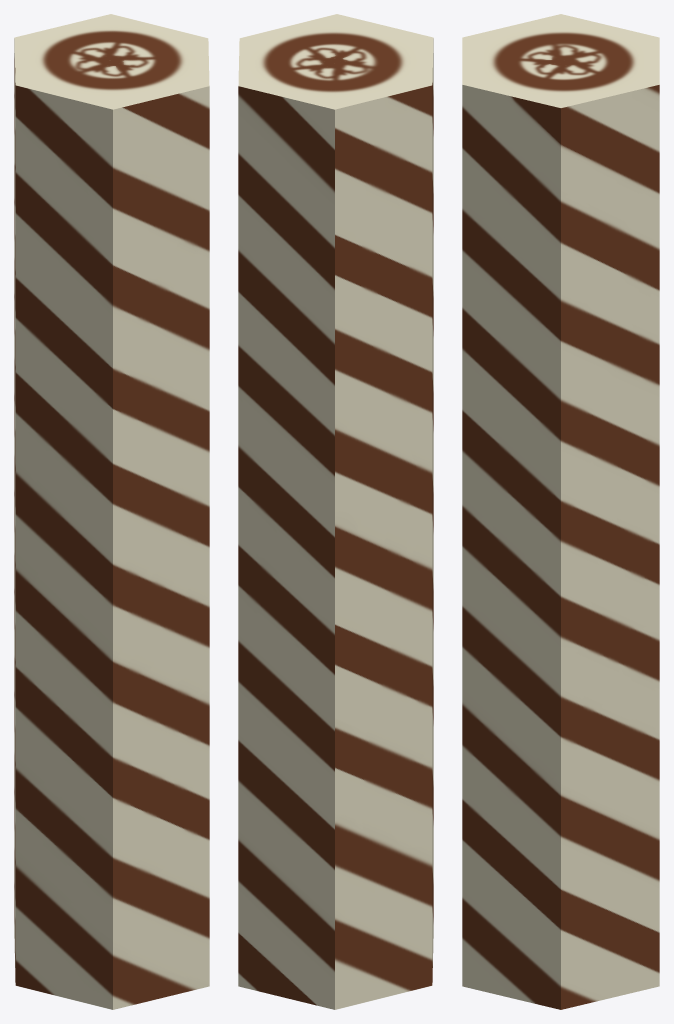
Rendered from Piazza.fbx.
3 renders of one model, left to right at view 1: azimuth 30°, elevation 25°; view 2: azimuth 150°, elevation 25°; view 3: azimuth 270°, elevation 25°, orthographic.
Visible parts, largest first — view 1: pCylinder1; view 2: pCylinder1; view 3: pCylinder1.
Part boxes in pixels (box(x1,y1,x2,y2)): pCylinder1: box(14, 14, 209, 1009); pCylinder1: box(238, 14, 433, 1009); pCylinder1: box(462, 14, 659, 1009).
Size of the model in its own units: 11.53 by 51.41 by 10.2.
1 material, 1 textured.
